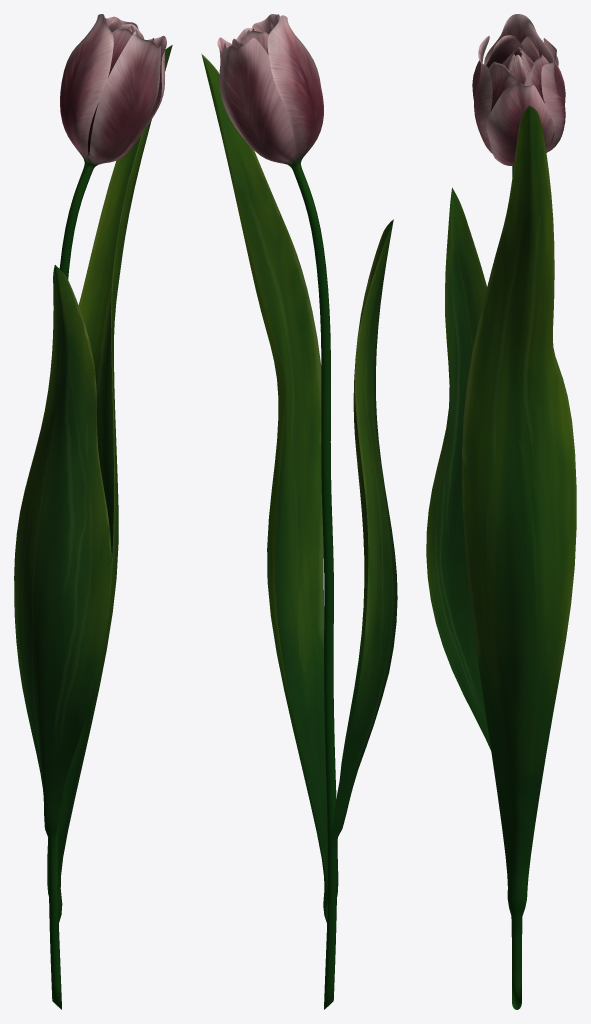
The model's file is tulip.glb.
3 renders of one model, left to right at view 1: azimuth 30°, elevation 25°; view 2: azimuth 150°, elevation 25°; view 3: azimuth 270°, elevation 25°, orthographic. The views are drawn at different scales.
Visible parts, largest first — view 1: Tulip; view 2: Tulip; view 3: Tulip.
Part boxes in pixels (x1,y1,x2,y2): Tulip: (14, 14, 172, 1009); Tulip: (201, 14, 397, 1009); Tulip: (426, 14, 576, 1009).
Size of the model in its own units: 0.0758 by 0.4277 by 0.0573.
1 material, 1 textured.
